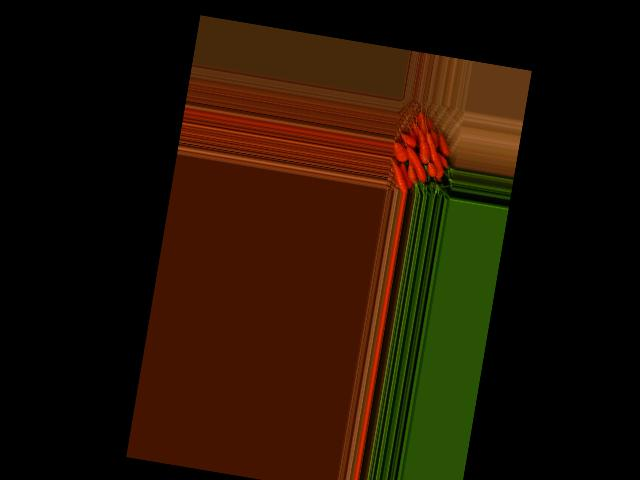carrot: (435, 150, 452, 166)
